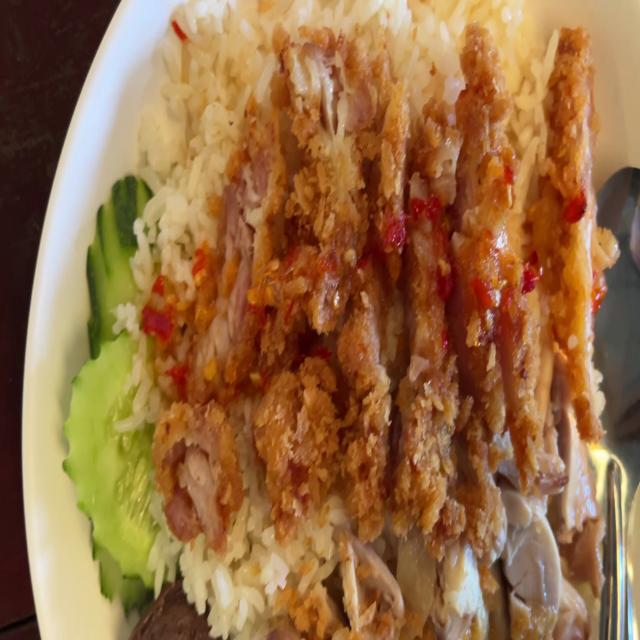chicken_rice: (277, 476, 612, 640)
noodle: (119, 572, 208, 640)
